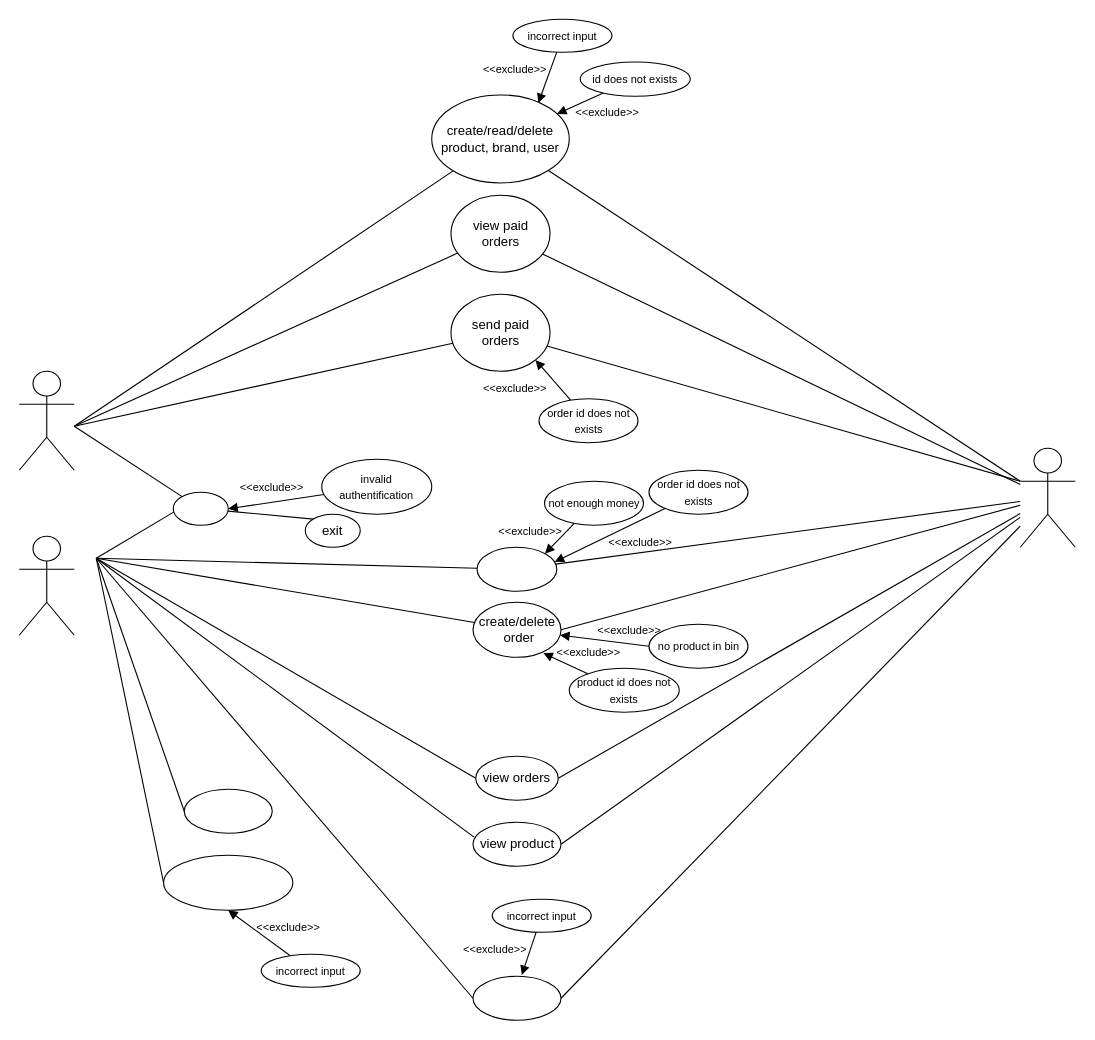
Image size: 1095x1040. Some labels were removed from this diagram. Here are the shapes that lost their labels. From the top down, the centre of each, then its label:
At (46,420): "admin".
At (200,508): "login".
At (1047,497): "DB".
At (46,585): "user".
At (516,568): "paid order".
At (227,810): "view account".
At (227,882): "create/read/delete products in bin".
At (516,997): "add cash".
